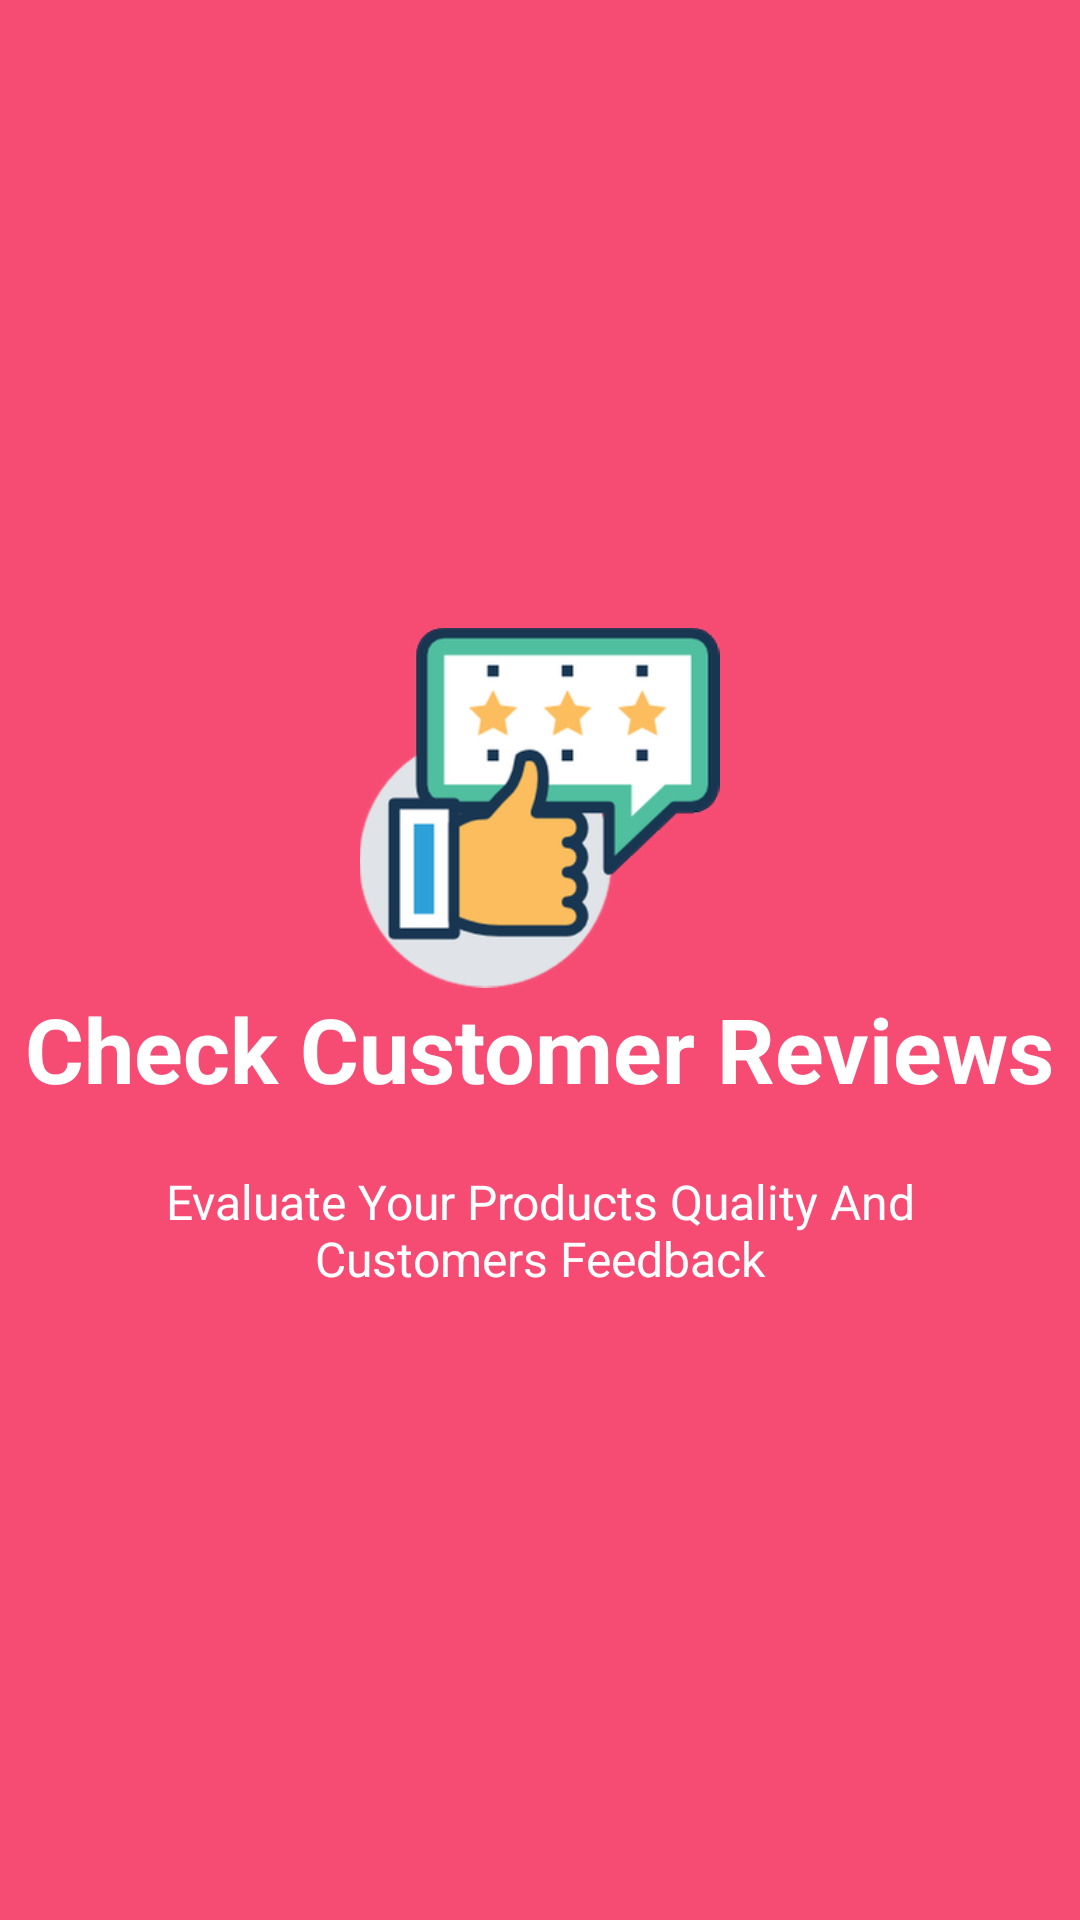

Named icons in this screenshot (1080×1920) and their centers, [x,y]:
rating: [540,808]
